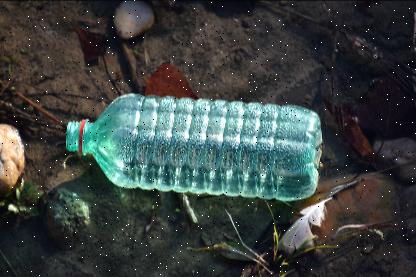Plastic Bottle: (66, 93, 322, 201)
